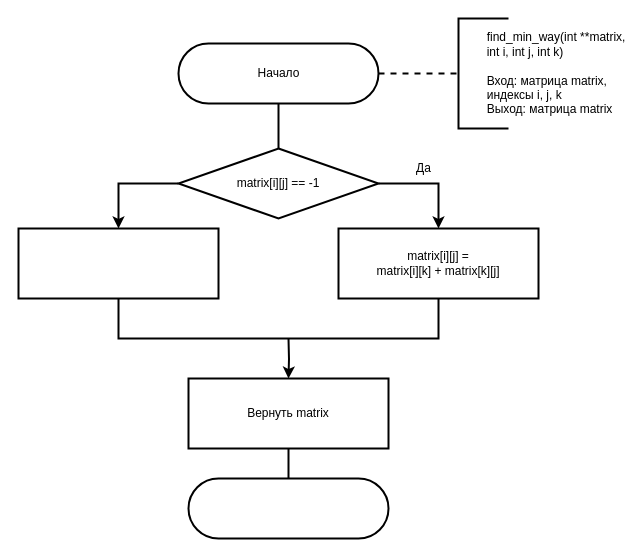
The diagram is 642 pixels wide and 556 high, and some of its shapes have lost their labels. Each missing label, with the centre of its shape:
"matrix[i][j] = min(matrix[i][j], matrix[i][k] + matrix[k][j])" belongs at point 118,263.
"Конец" belongs at point 288,508.
